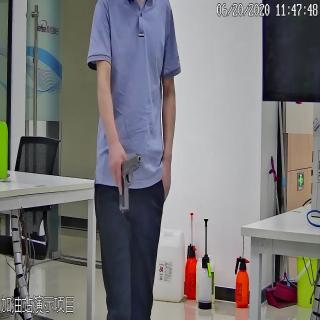gun: (109, 147, 143, 216)
